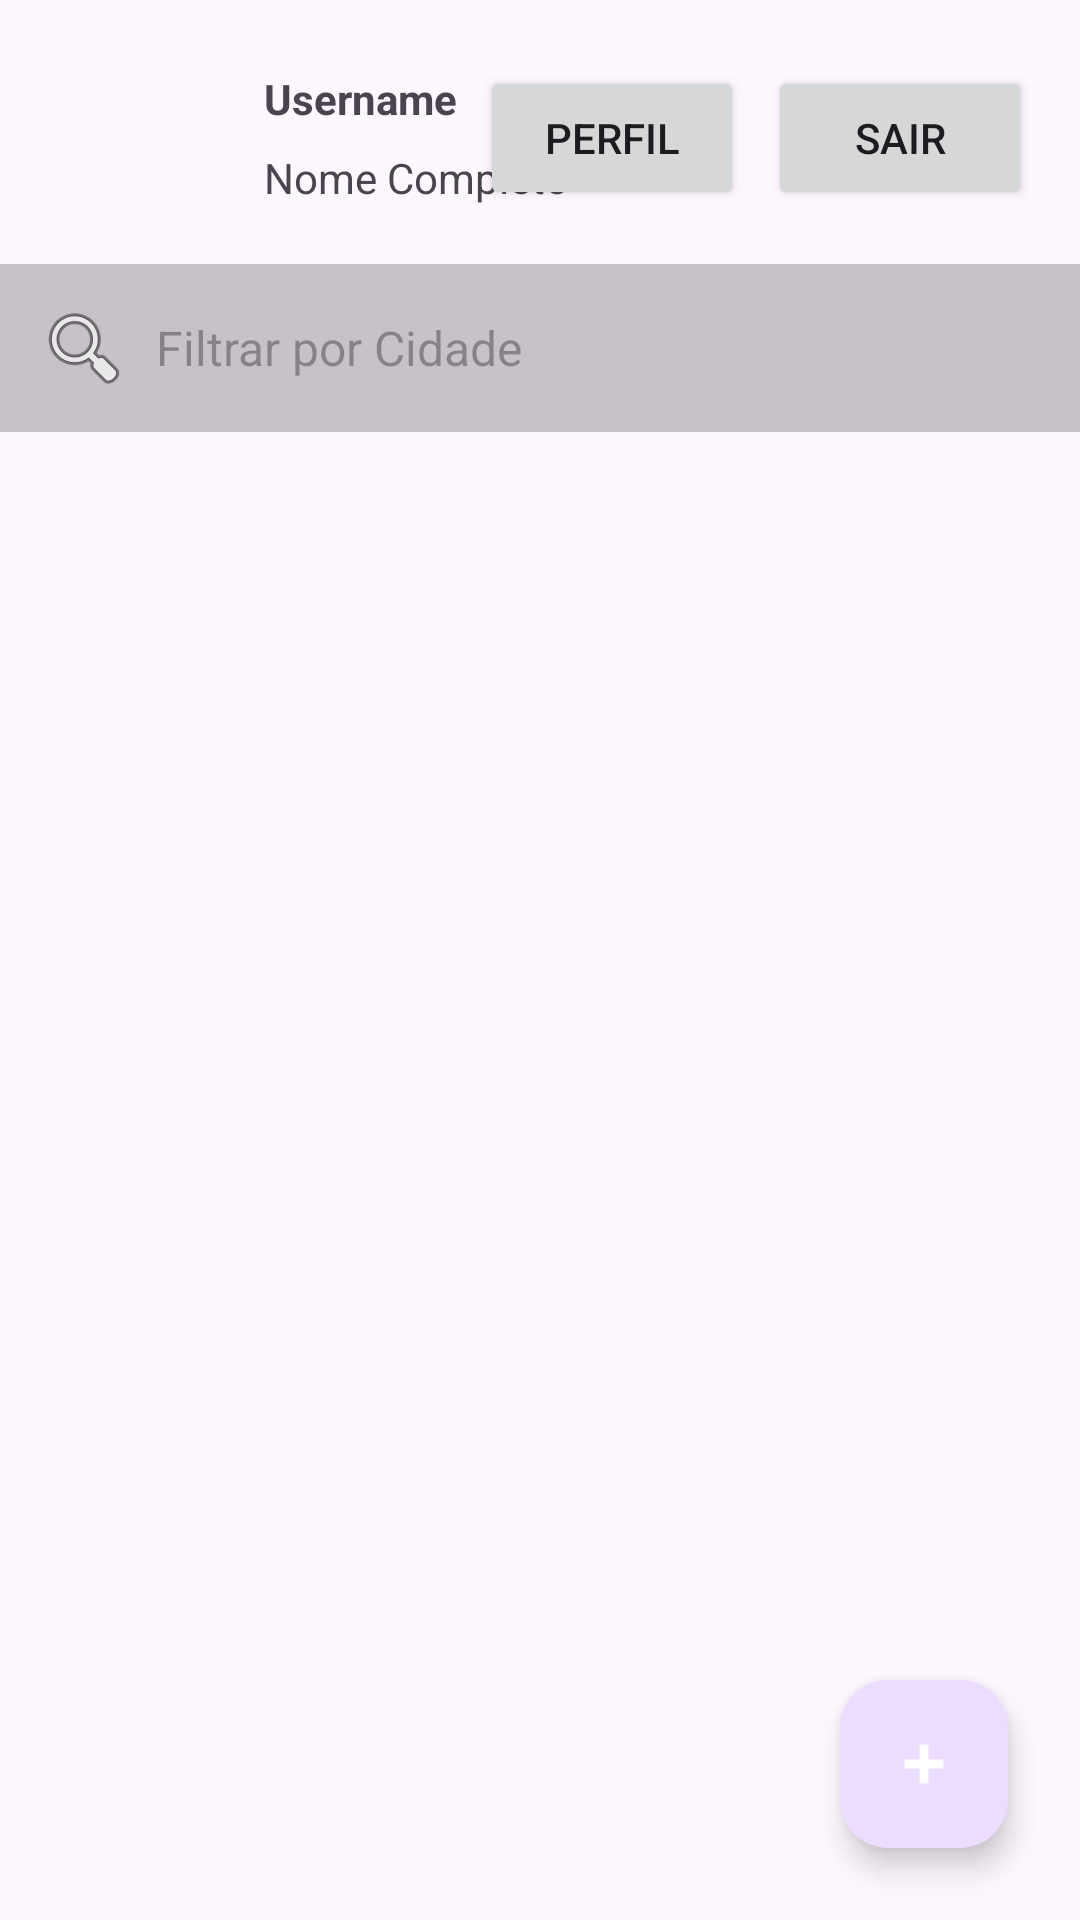

Icons on this 1080×1920 Android screen, each with the point to tap as (x=x, y=y):
Novo Post: (x=924, y=1764)
